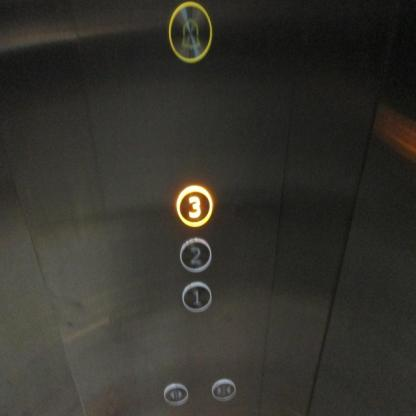1: (180, 280, 212, 314)
2: (178, 235, 212, 274)
3: (175, 181, 215, 230)
alarm: (166, 0, 215, 66)
close: (209, 377, 237, 403)
open: (161, 381, 189, 407)
